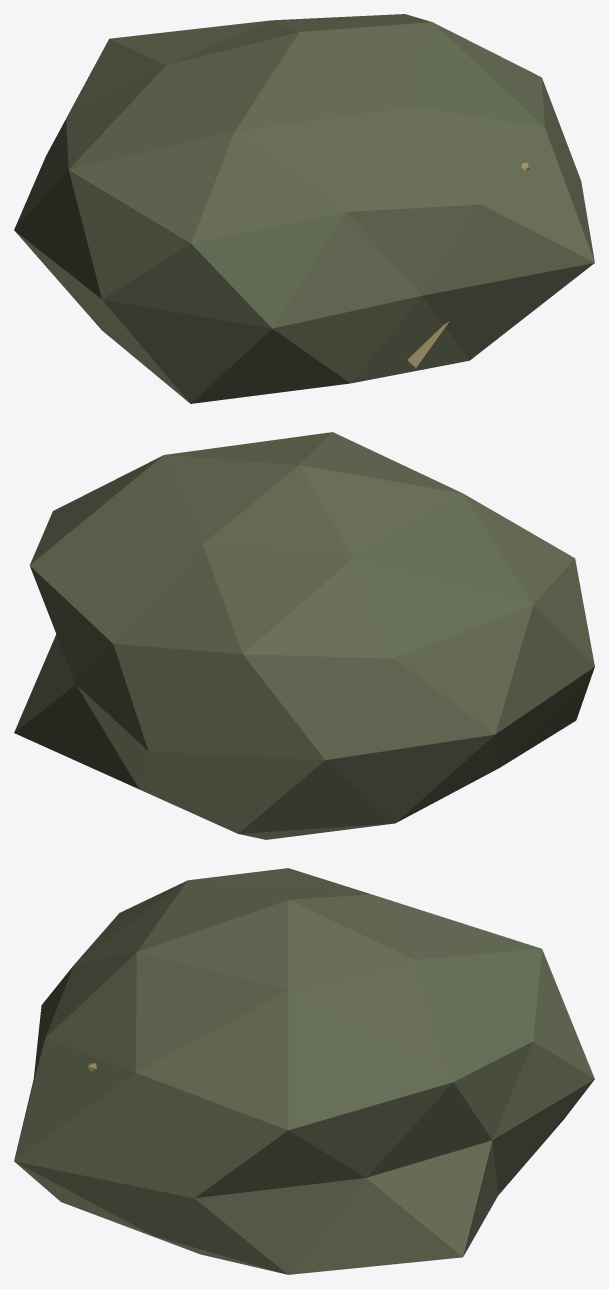
The model's file is rockMass0.obj.
3 views of the same model, one above another, from view 1: azimuth 30°, elevation 25°; view 2: azimuth 150°, elevation 25°; view 3: azimuth 270°, elevation 25° (orthographic). The views are drawn at different scales.
Visible parts, largest first — view 1: rockMass0; view 2: rockMass0; view 3: rockMass0.
Boxes of the visible parts, left/top/right/bottom form: rockMass0: left=14, top=14, right=594, bottom=403; rockMass0: left=14, top=432, right=594, bottom=839; rockMass0: left=14, top=868, right=594, bottom=1274.
Bounding box in the file's own units: 1.66 × 1 × 1.66.
Materials: 1 (1 with a texture image).
